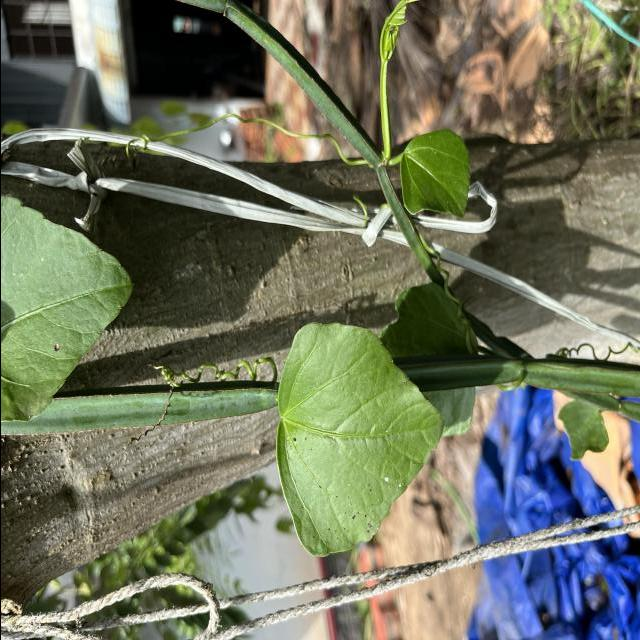Cissus quadrangularis: (271, 318, 447, 561)
